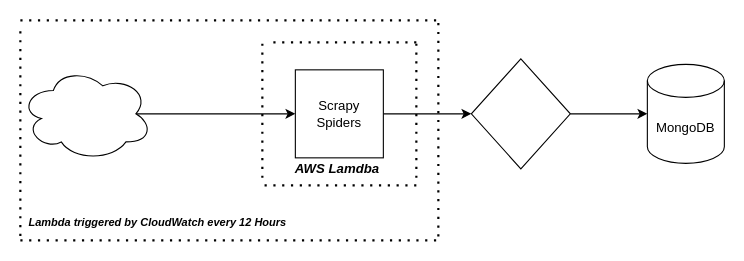
Image size: 744x261. Some labels were removed from this diagram. The shapes that lost their labels are listed below. From the top down, each one's centre as x and y in pixels, then its label:
[85,113]: CloudWatch / EventBridge
[520,113]: JSON Exctracted
